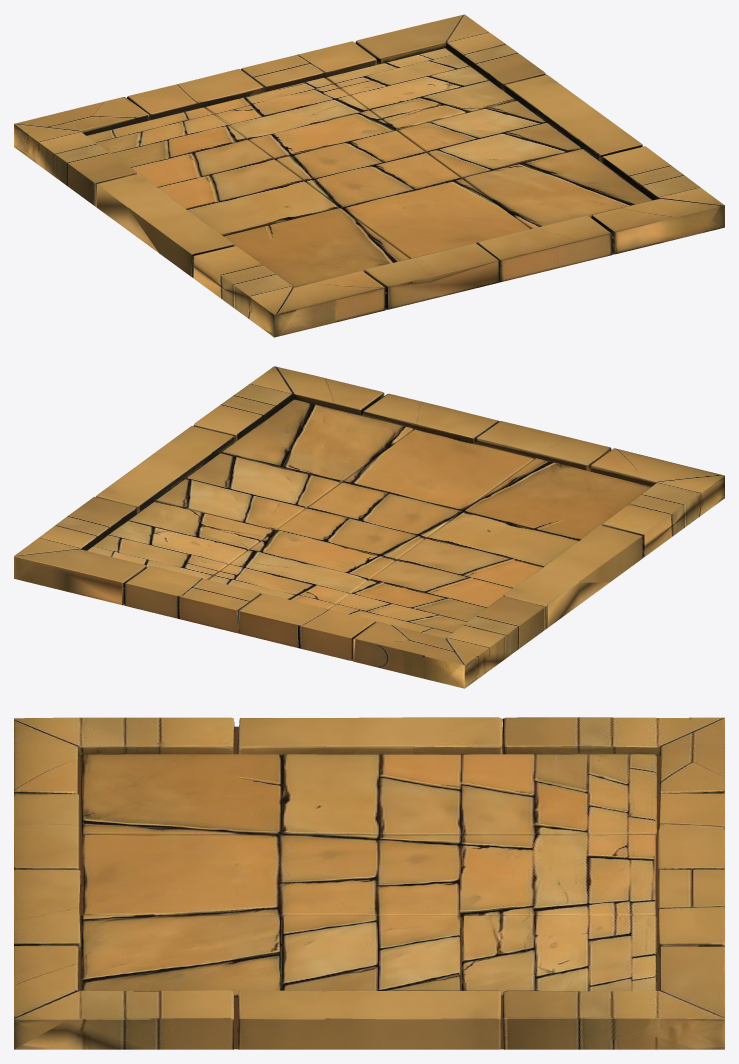
Rendered from floor-stone.glb.
3 views of the same model, one above another, from view 1: azimuth 30°, elevation 25°; view 2: azimuth 150°, elevation 25°; view 3: azimuth 270°, elevation 25° (orthographic). The views are drawn at different scales.
Bounding box in the file's own units: 2 × 0.1 × 2.
Materials: 1 (1 with a texture image).
